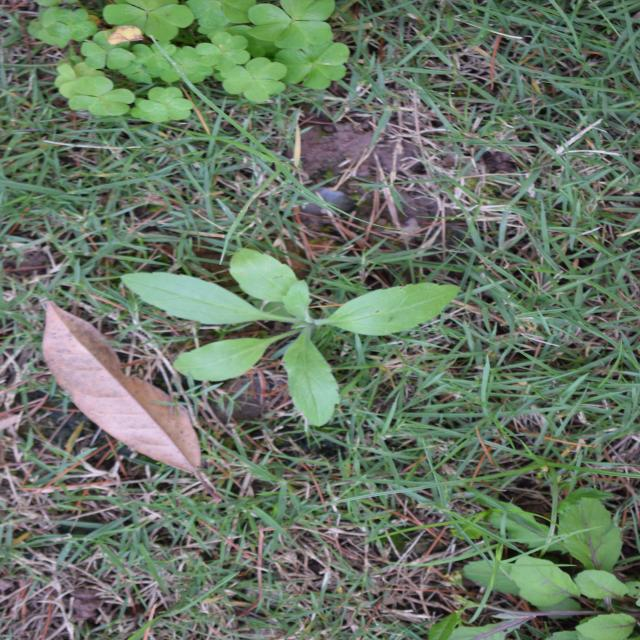horseweed: (216, 116, 390, 452)
